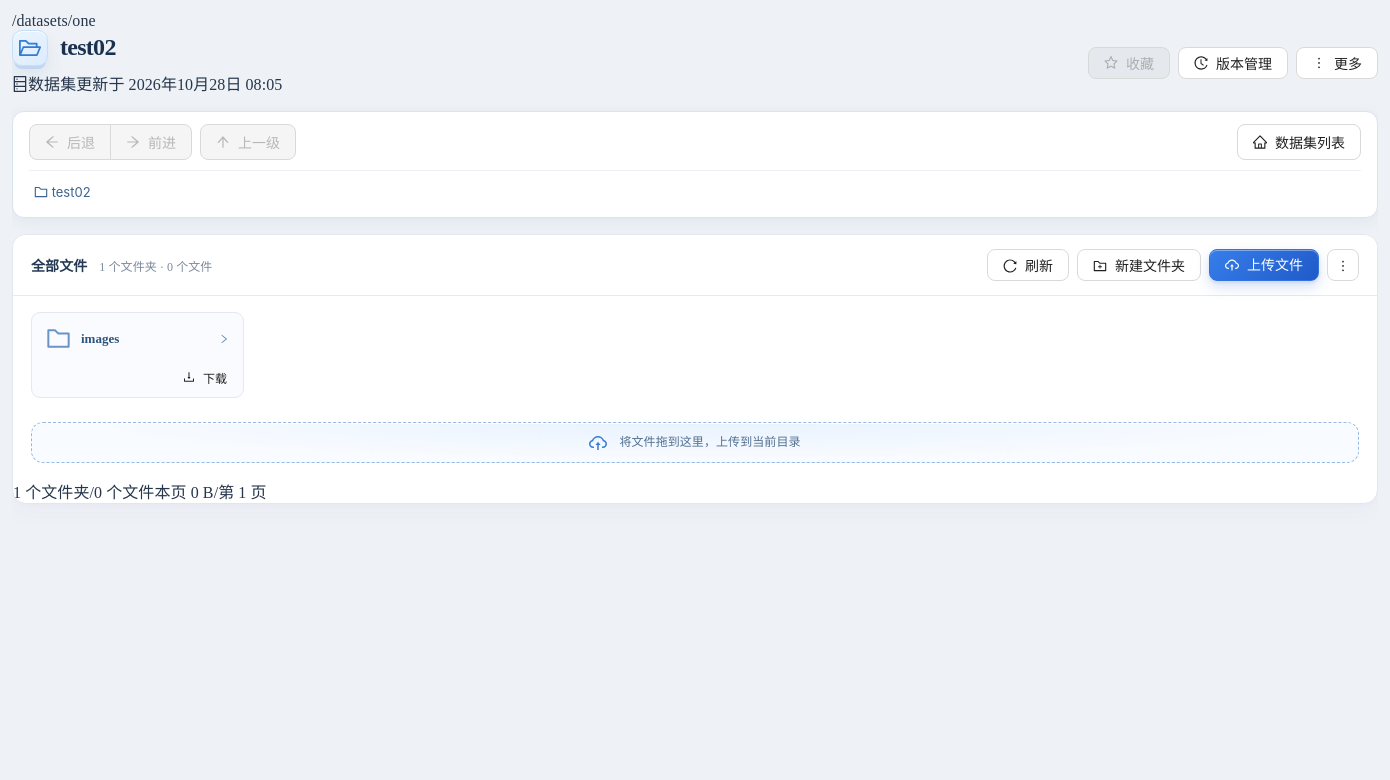
Dataset file explorer › reports folder package failures in place and permits an explicit retry
The image size is (1390, 780).
Click the button with aria-label "下载压缩包 images": click(205, 377) [175,365,235,389]
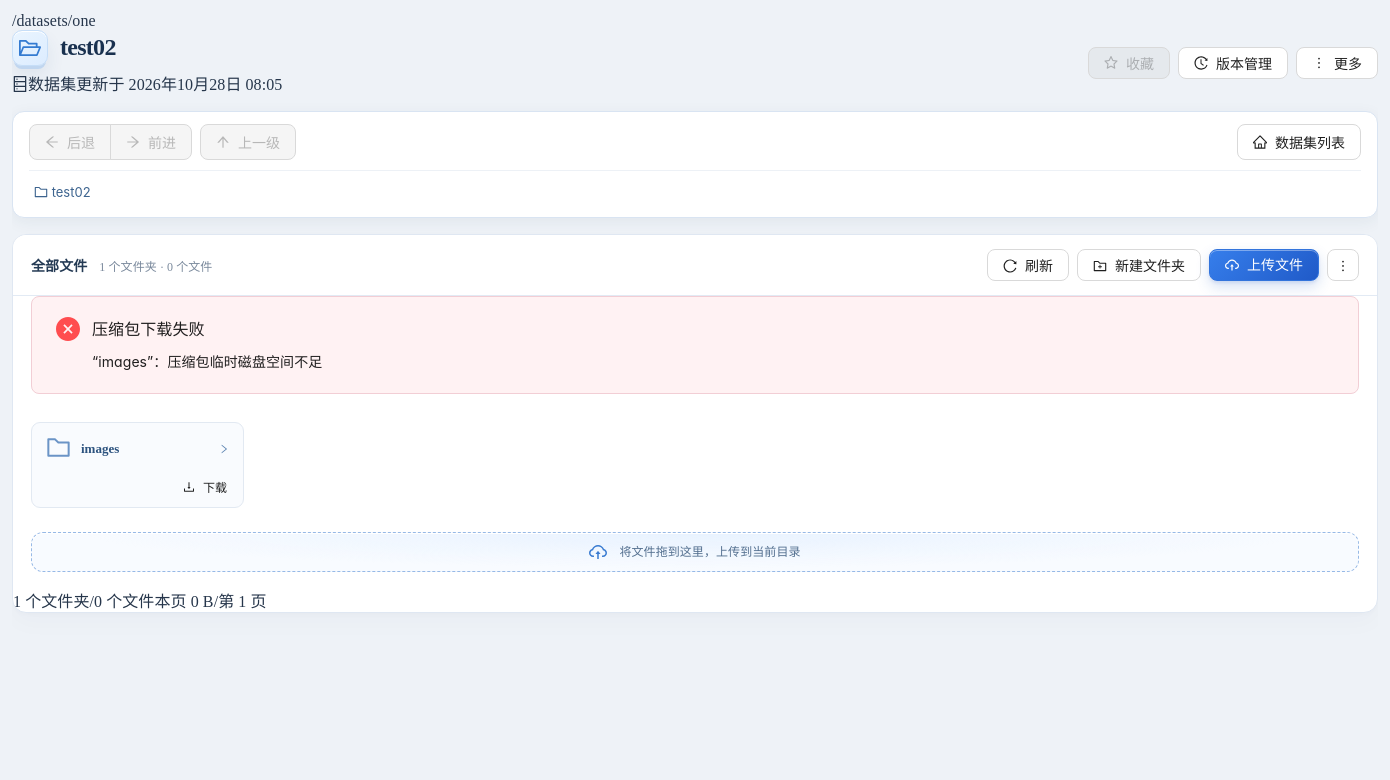
Expected: the text with test id "route-location" reads "/datasets/one", [12,12,96,29]
Expected: the message shows "压缩包下载失败", [92,319,205,339]
Expected: the message shows "“images”：压缩包临时磁盘空间不足", [92,353,322,370]
Click the button with aria-label "下载压缩包 images": click(205, 487) [175,475,235,499]
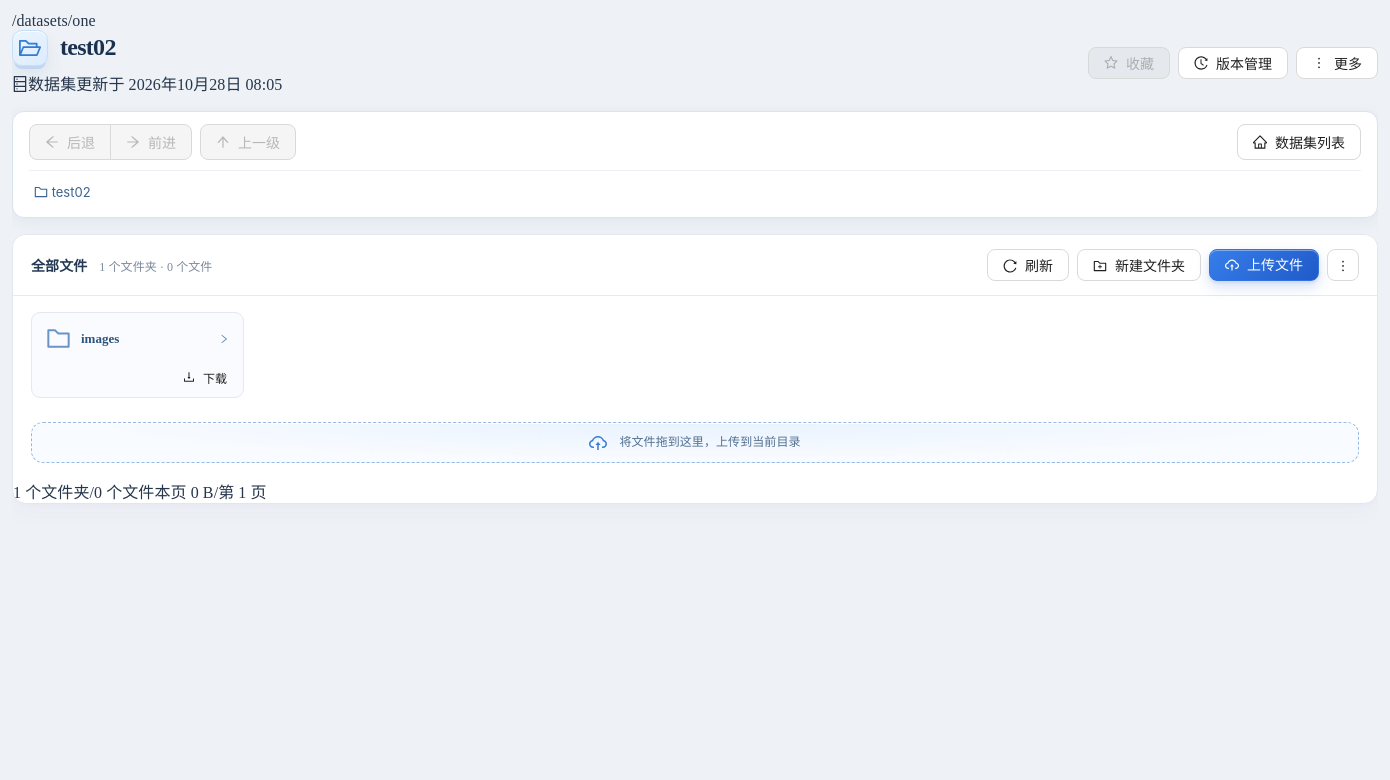
Expected: the message "压缩包下载失败 “images”：压缩包临时磁盘空间不足" is gone
